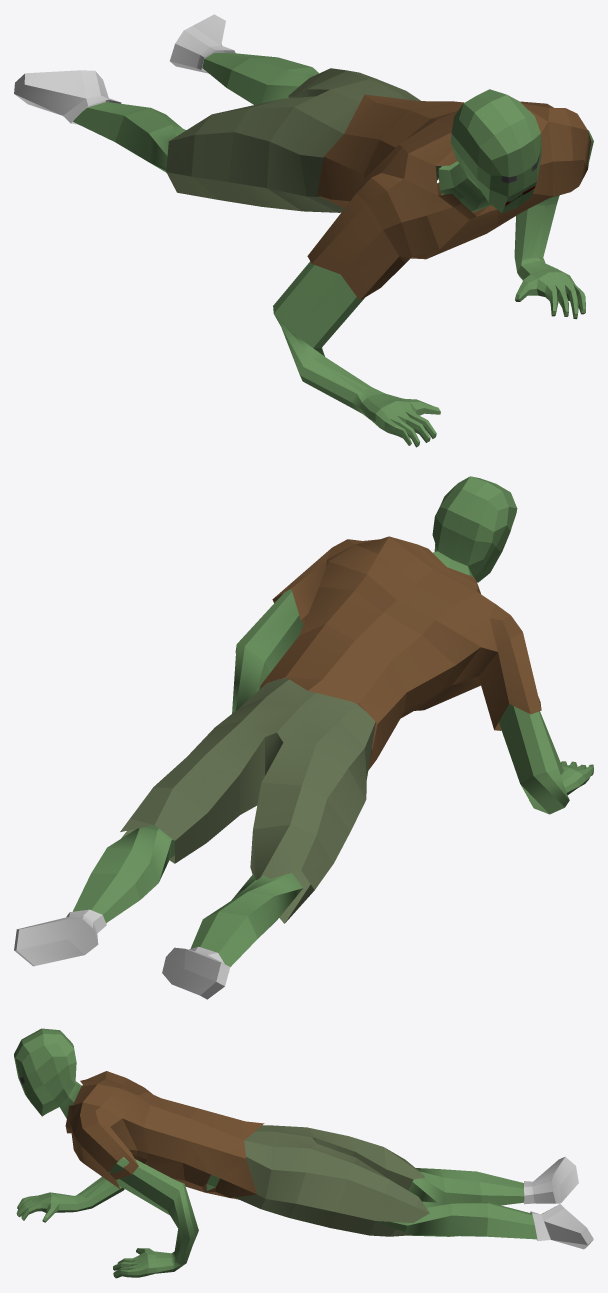
File: ZombieCrawl(32).obj
3 renders of one model, top to bottom at view 1: azimuth 30°, elevation 25°; view 2: azimuth 150°, elevation 25°; view 3: azimuth 270°, elevation 25°, orthographic. The views are drawn at different scales.
Parts seen in each view (by area): view 1: Object001; view 2: Object001; view 3: Object001.
Part boxes in pixels (x1,y1,x2,y2): Object001: (14,14,593,447); Object001: (14,476,593,999); Object001: (14,1028,593,1278).
Bounding box in the file's own units: 26.74 × 24.56 × 59.36.
